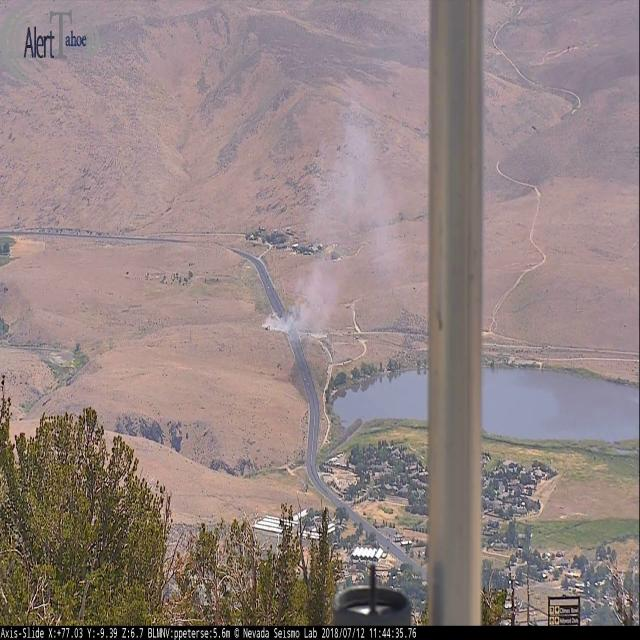smoke: (257, 81, 426, 340)
